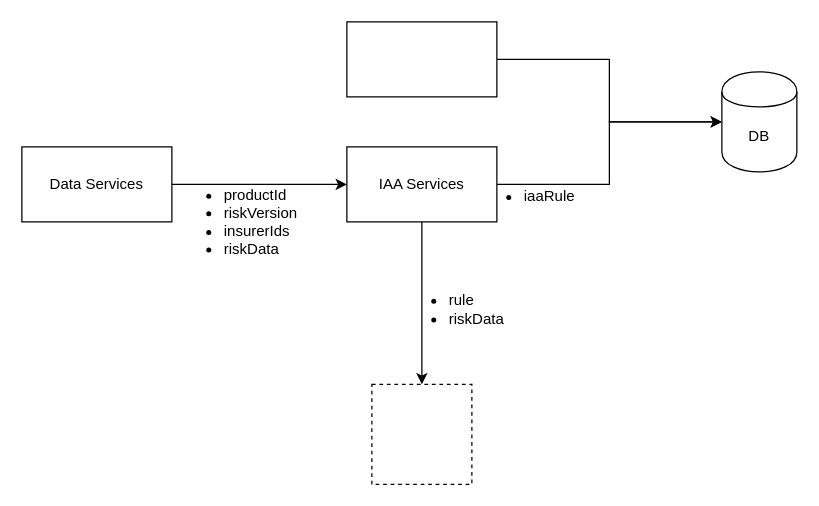
Some shapes in this 819 by 506 pixel diagram are drawn without their labels. Here are the shapes that lost their labels. From the top down, the centre of each, then its label:
At point 421,59: "IAA Web".
At point 421,433: "Rule Engine".
